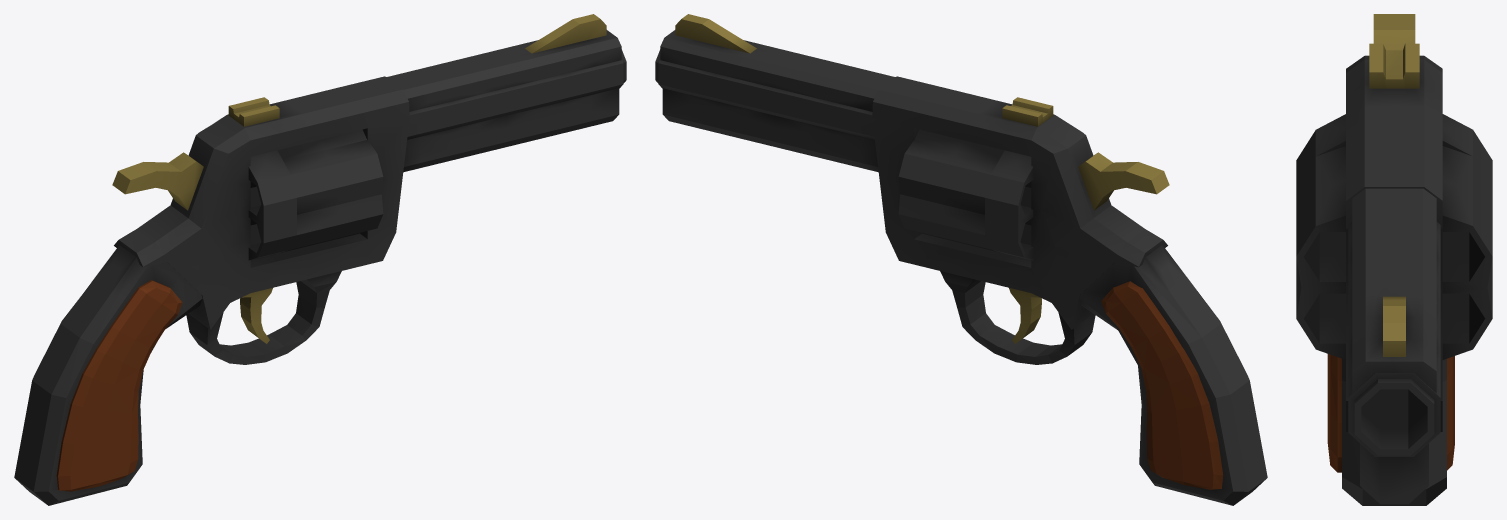
Rendered from v-revolver-b-medium.glb.
3 views of the same model, side by side, from view 1: azimuth 30°, elevation 25°; view 2: azimuth 150°, elevation 25°; view 3: azimuth 270°, elevation 25° (orthographic). The views are drawn at different scales.
Visible parts, largest first — view 1: body; view 2: body; view 3: body.
Part boxes in pixels (left/top/right/bottom): body: left=14, top=14, right=626, bottom=505; body: left=655, top=14, right=1267, bottom=505; body: left=1296, top=14, right=1492, bottom=505.
Size of the model in its own units: 0.26 by 0.1456 by 0.0454.
